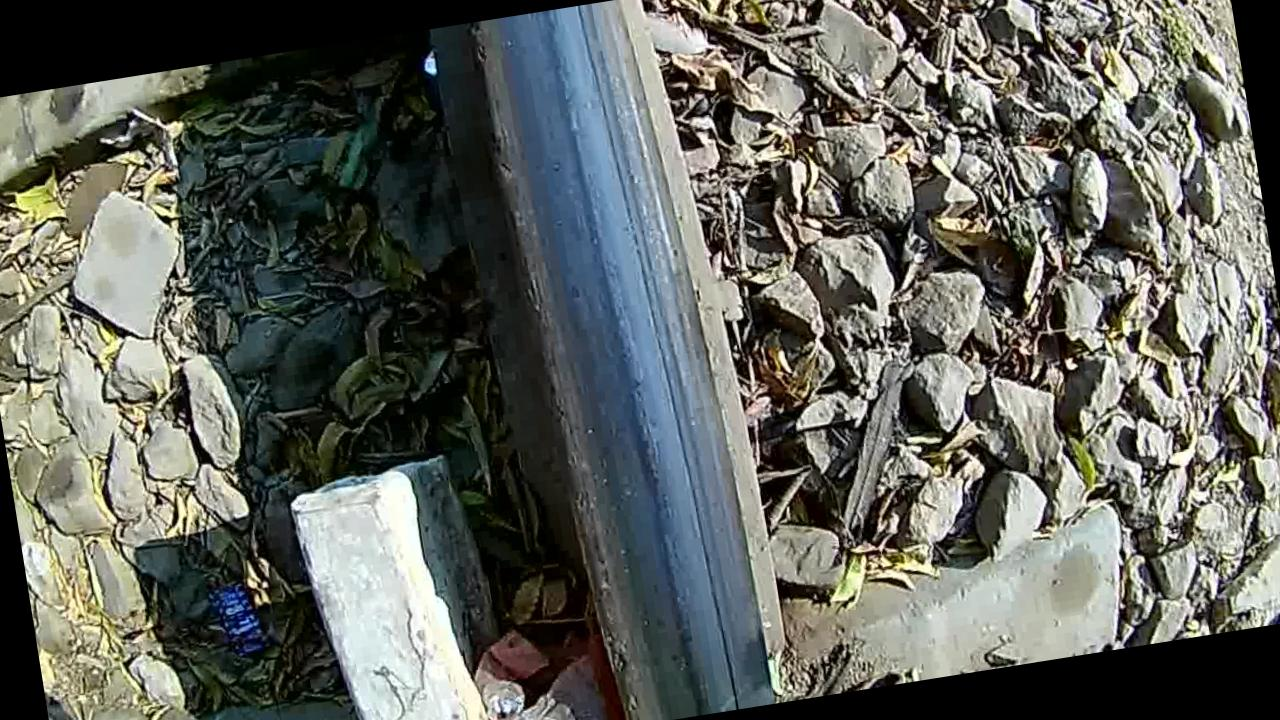clip_missing: (462, 0, 781, 720)
